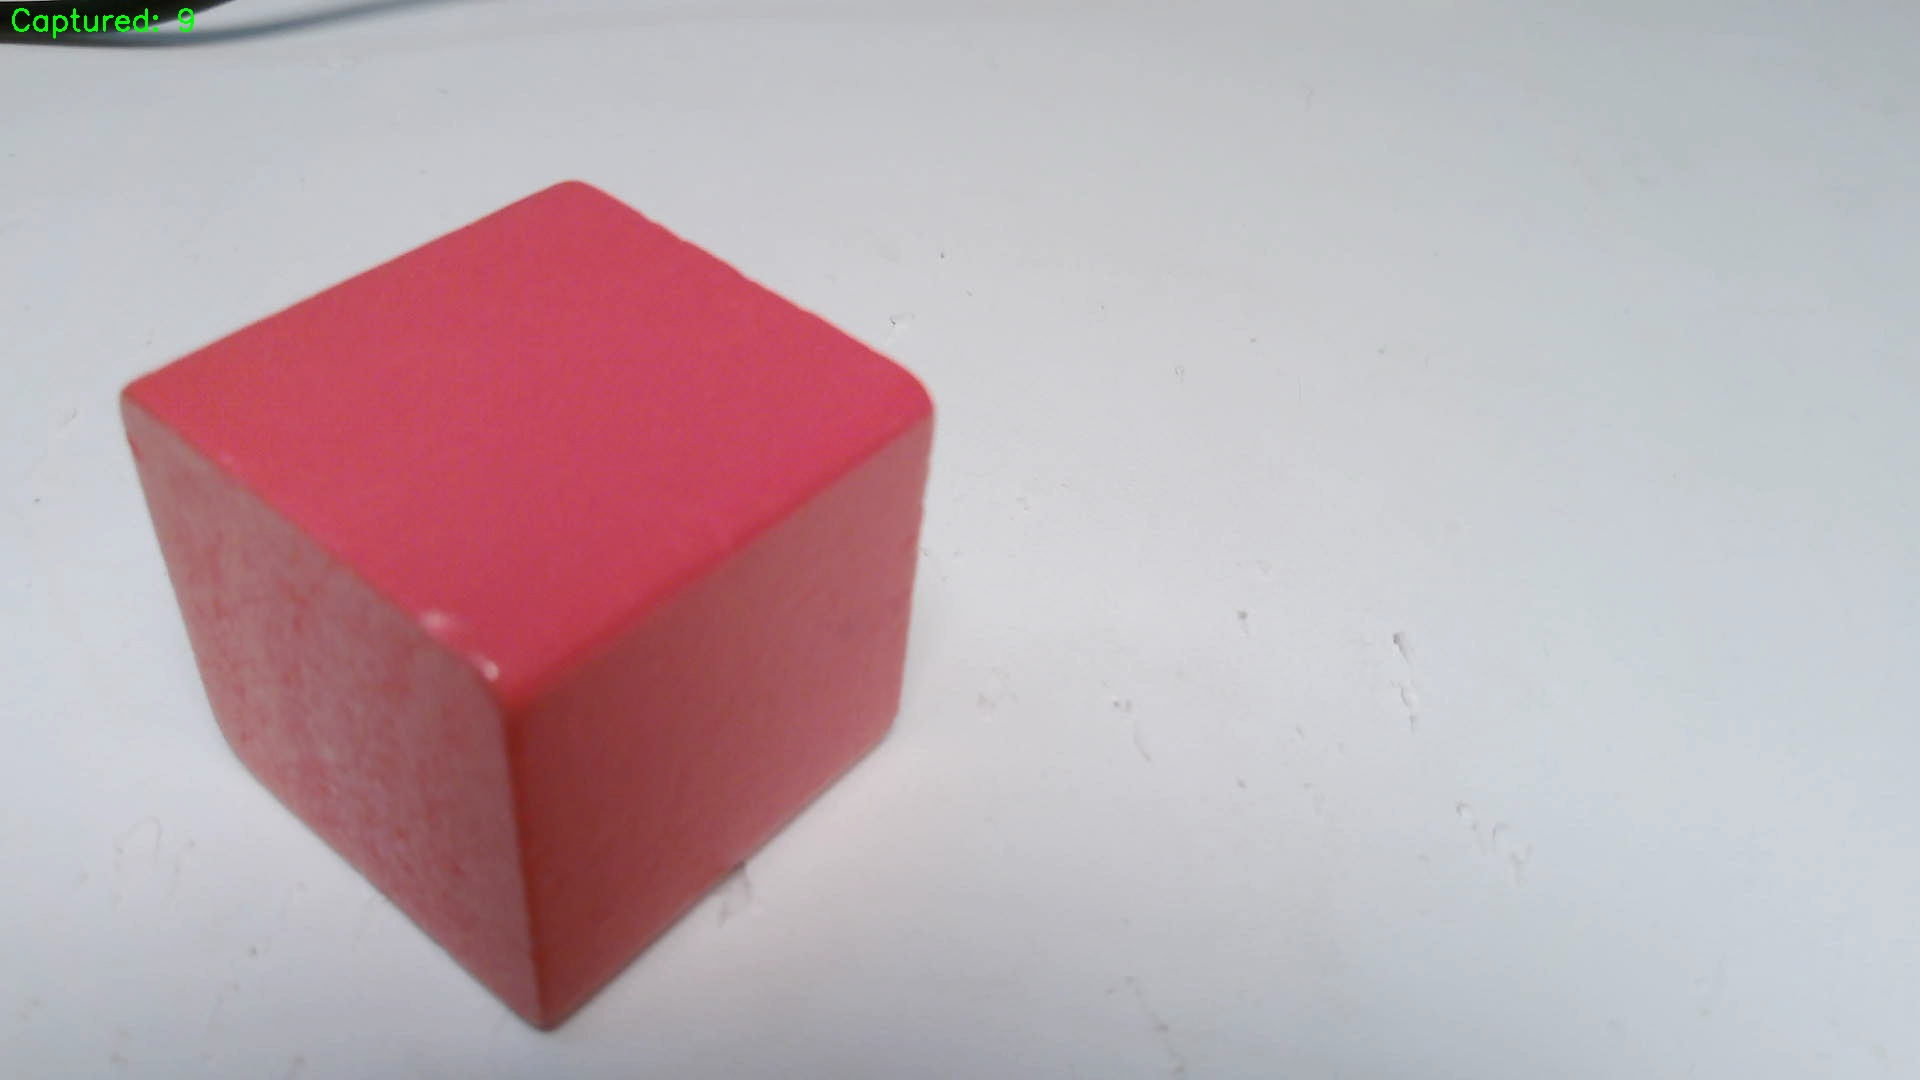red: (117, 181, 939, 1031)
